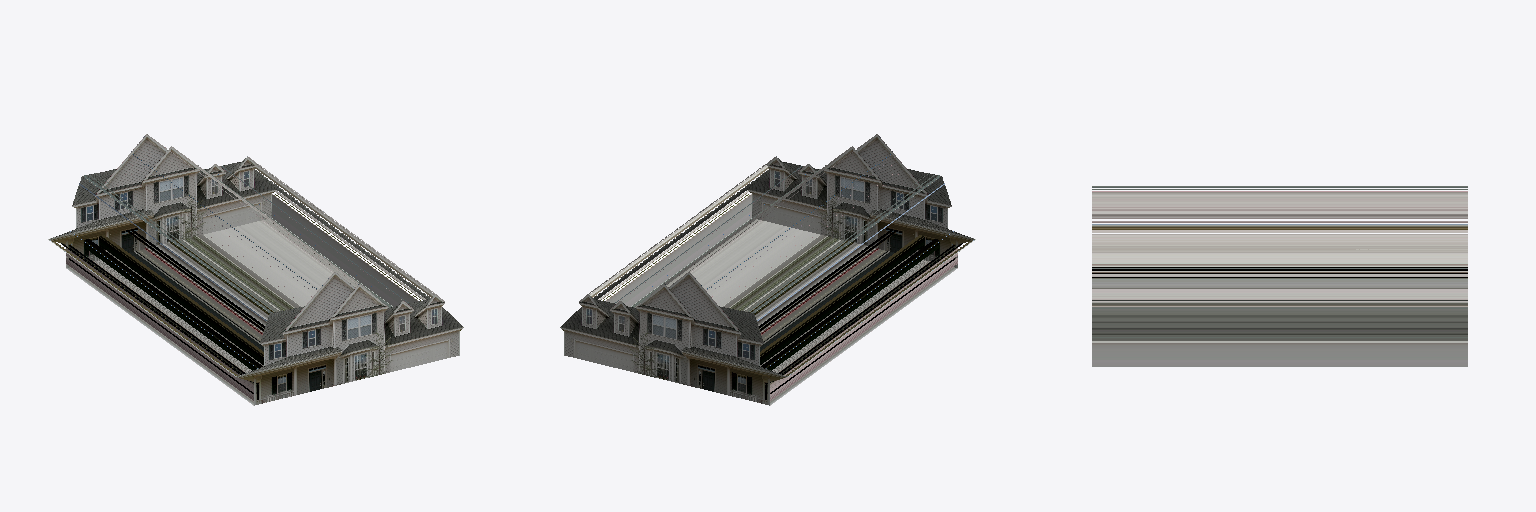
The picture shows the model from 3 angles: view 1: azimuth 30°, elevation 25°; view 2: azimuth 150°, elevation 25°; view 3: azimuth 270°, elevation 25°; orthographic projection.
Parts seen in each view (by area): view 1: Object.1; view 2: Object.1; view 3: Object.1.
Part boxes in pixels (left/top/right/bottom): Object.1: left=48, top=134, right=463, bottom=405; Object.1: left=560, top=134, right=975, bottom=405; Object.1: left=1092, top=186, right=1467, bottom=366.
Size of the model in its own units: 240 by 115 by 341.
Materials: 1 (1 with a texture image).